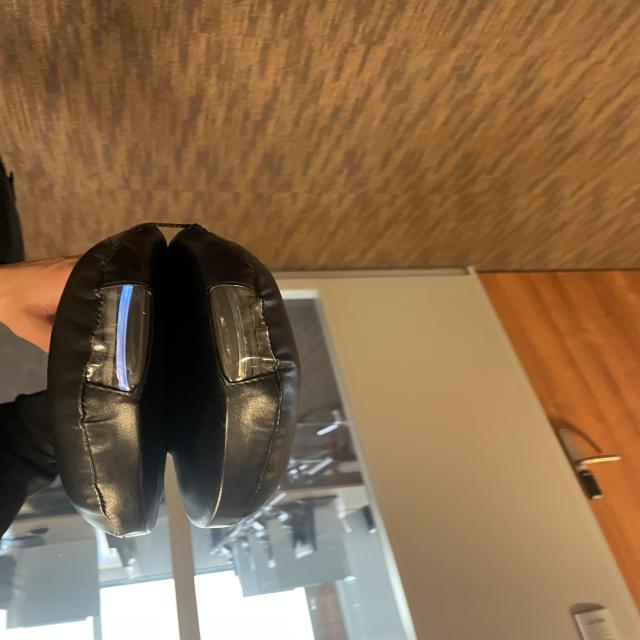paddle: (59, 228, 275, 528)
trigger: (109, 282, 138, 402)
